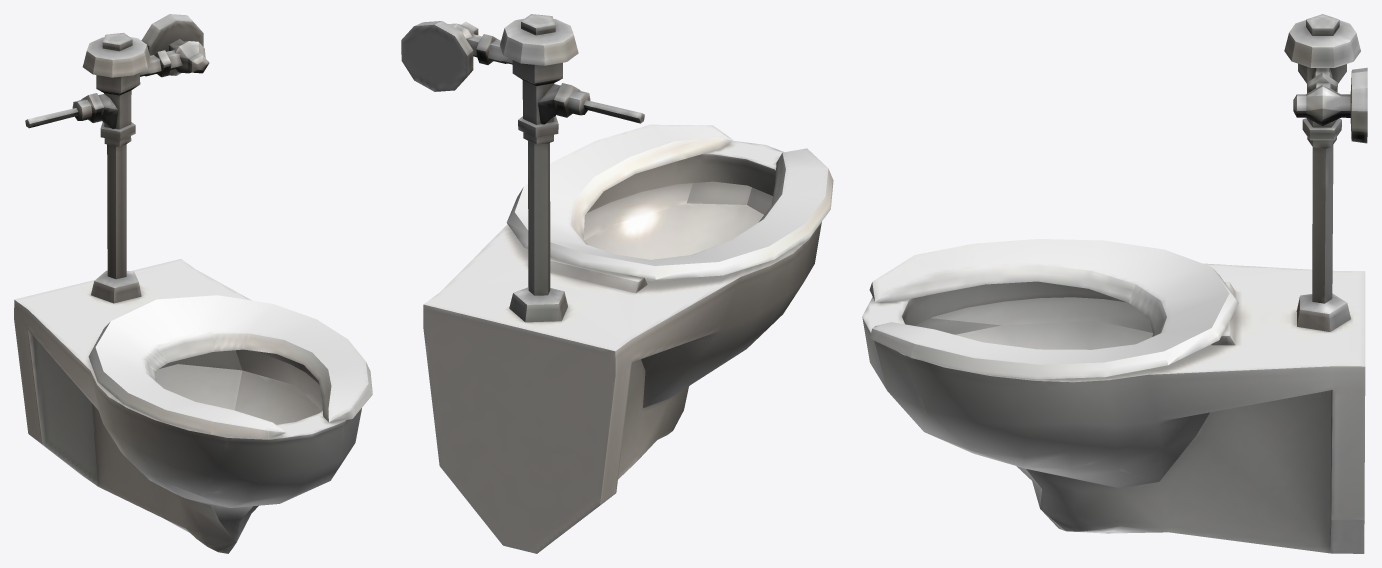
The model's file is toilet_parasite 1.fbx.
The picture shows the model from 3 angles, left to right: view 1: azimuth 30°, elevation 25°; view 2: azimuth 150°, elevation 25°; view 3: azimuth 270°, elevation 25°; orthographic projection. The views are drawn at different scales.
Visible parts, largest first — view 1: toilet.parasite; view 2: toilet.parasite; view 3: toilet.parasite.
Boxes of the visible parts, x1,y1,x2,y2 form: toilet.parasite: (14, 14, 372, 553); toilet.parasite: (401, 14, 833, 553); toilet.parasite: (862, 14, 1367, 553).
Size of the model in its own units: 0.5095 by 0.9501 by 0.8307.
